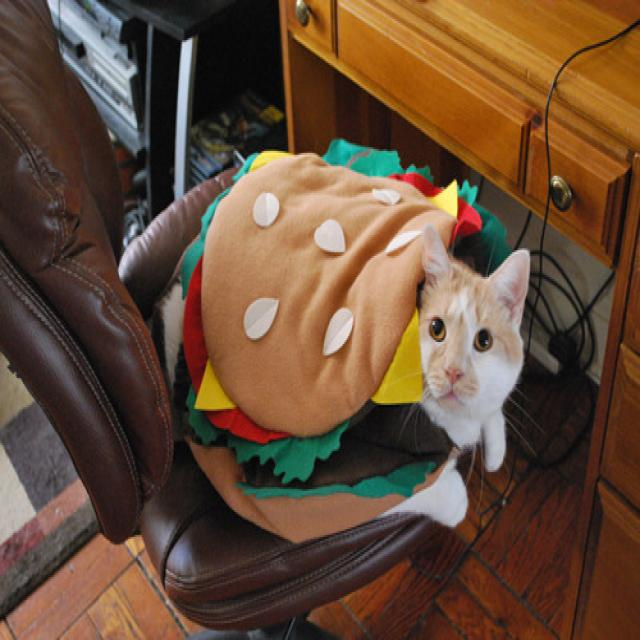cat: (164, 172, 549, 546)
